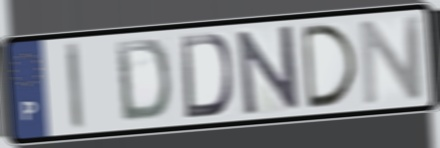D: (298, 21, 362, 112), (113, 37, 174, 125), (179, 32, 235, 121)
I: (63, 40, 87, 133)
N: (357, 13, 427, 109), (235, 23, 303, 119)
